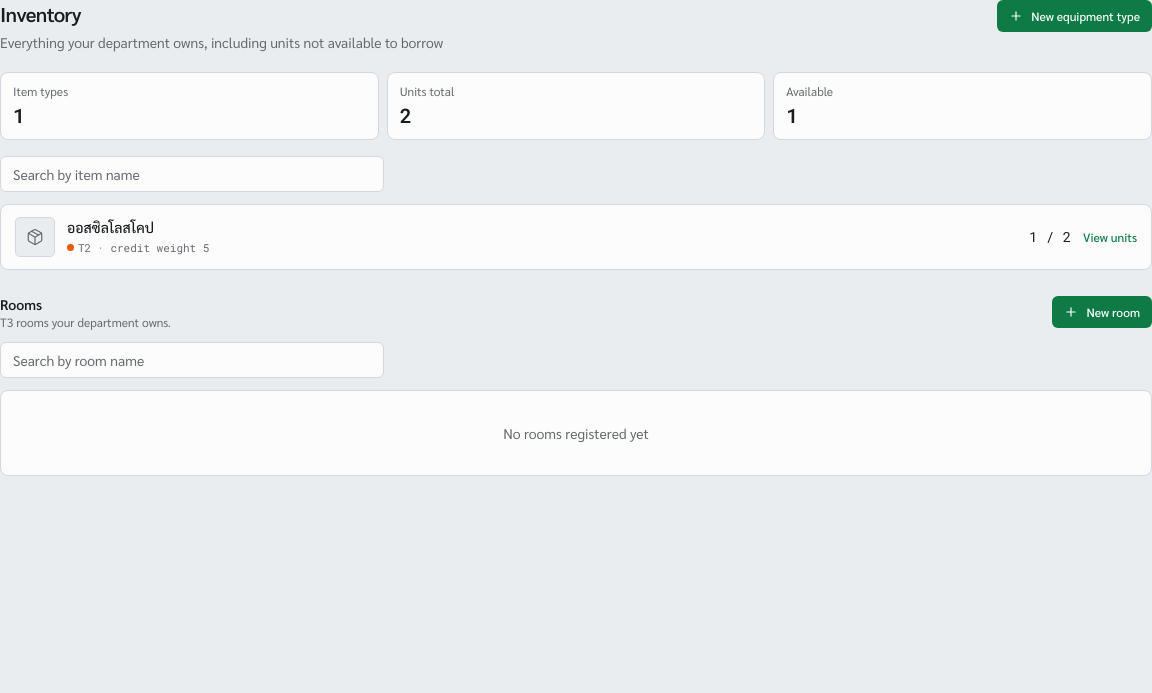
Test: Staff inventory: unit delete blocked by history › shows the HAS_HISTORY message and a request-retirement action instead of deleting
Click the button "ออสซิลโลสโคป T2 · credit weight 5 1 / 2 View units" at {"x": 35, "y": 237}, box [1,205,1151,269]
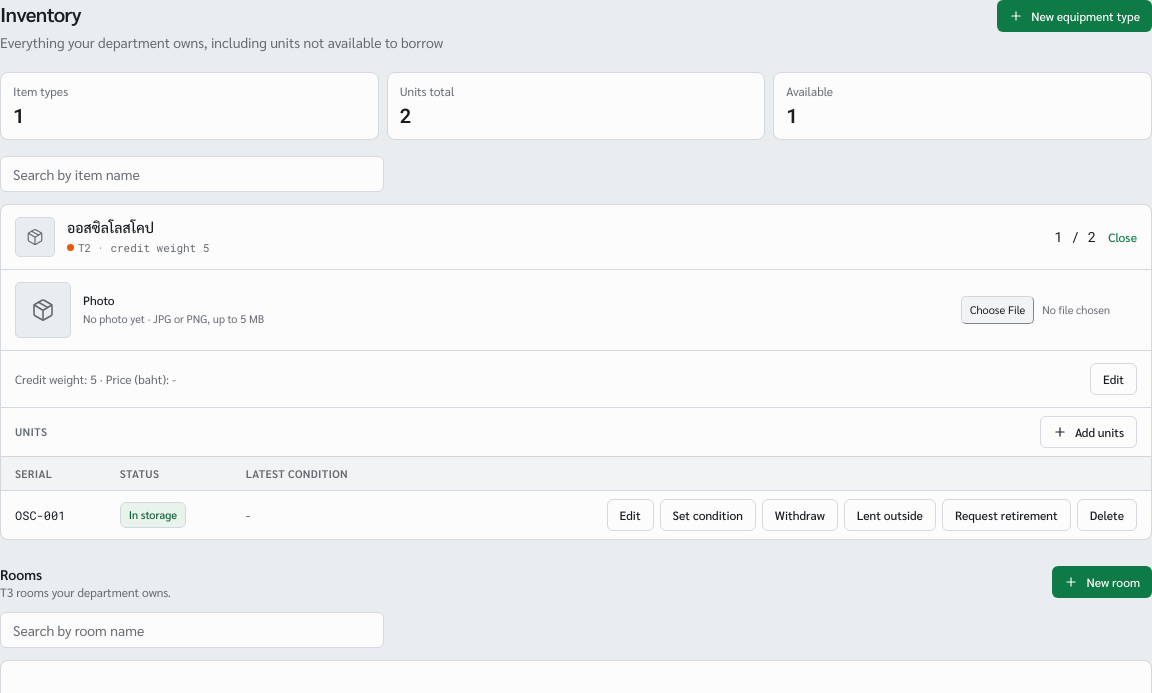
Click the button "Delete" at {"x": 1107, "y": 515}, box [1077,499,1137,531]
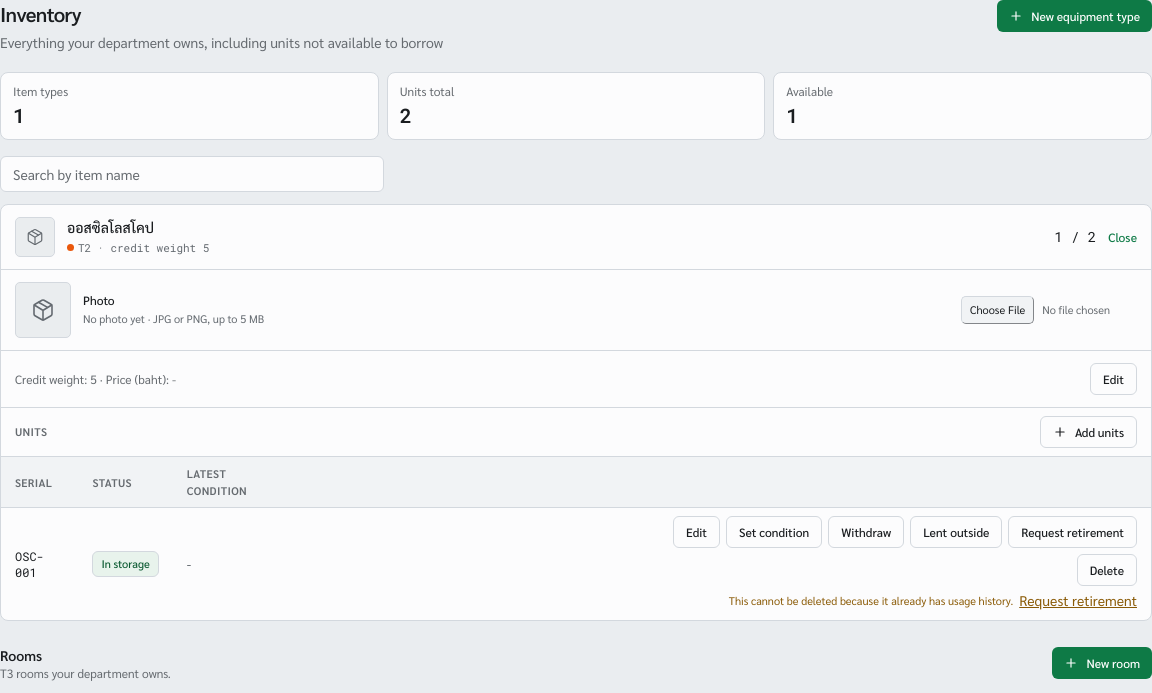
Expected: the text "This cannot be deleted because it already has usage history." is shown, [729,592,1013,609]
Click the 2nd button "Request retirement" at {"x": 1078, "y": 601}, box [1019,590,1137,612]
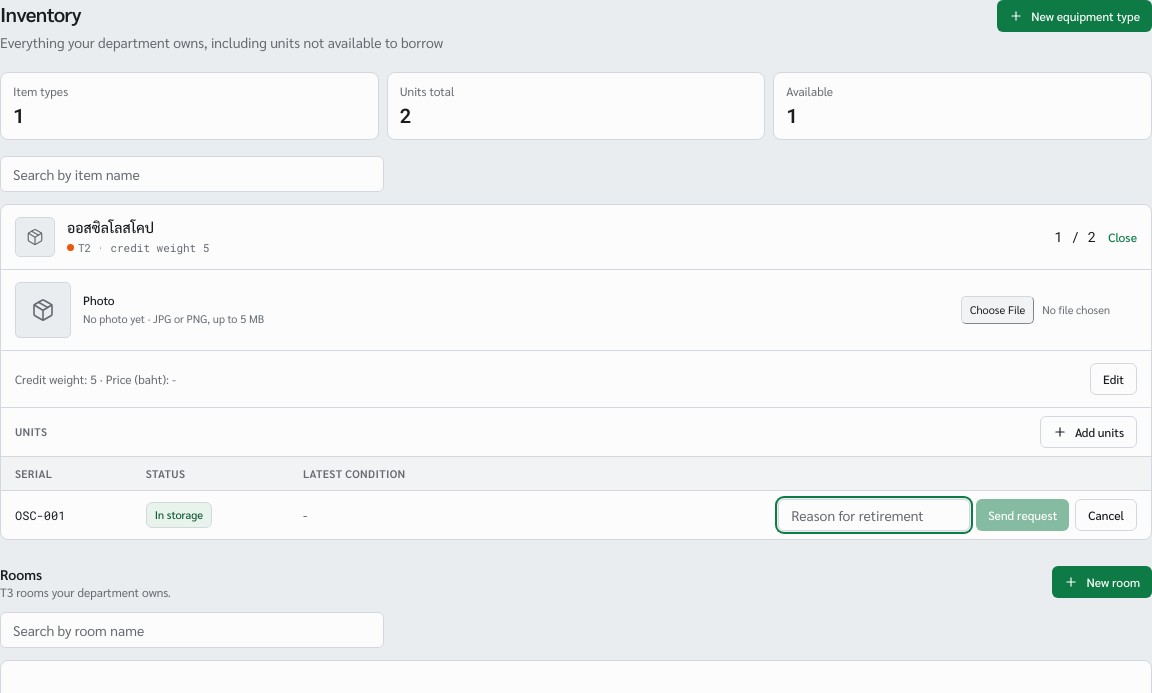
Expected: the field with placeholder "Reason for retirement" is shown, [778,499,970,531]
